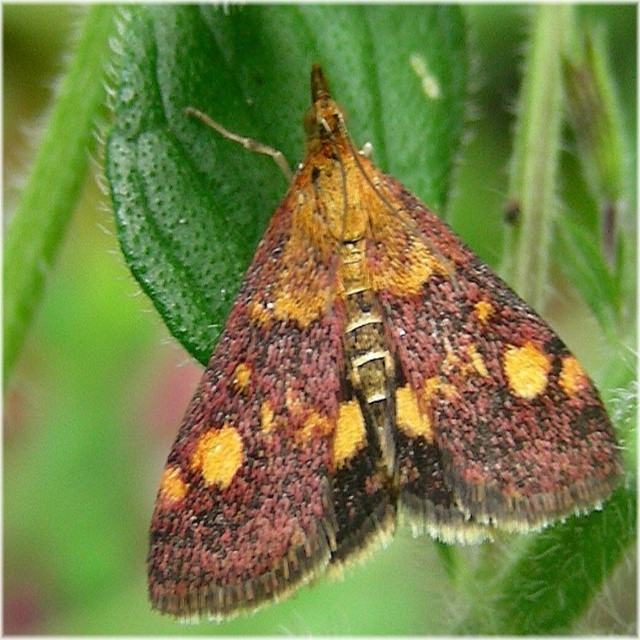Moths and butterflies: (146, 63, 628, 623)
